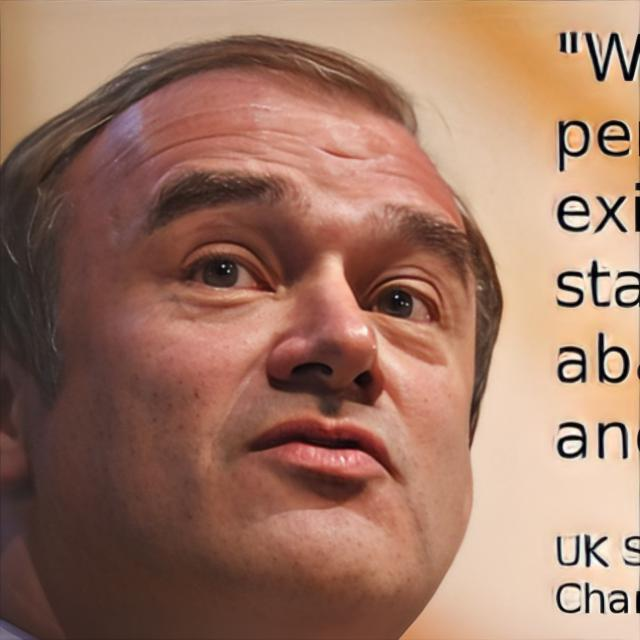surprise: (29, 59, 478, 640)
